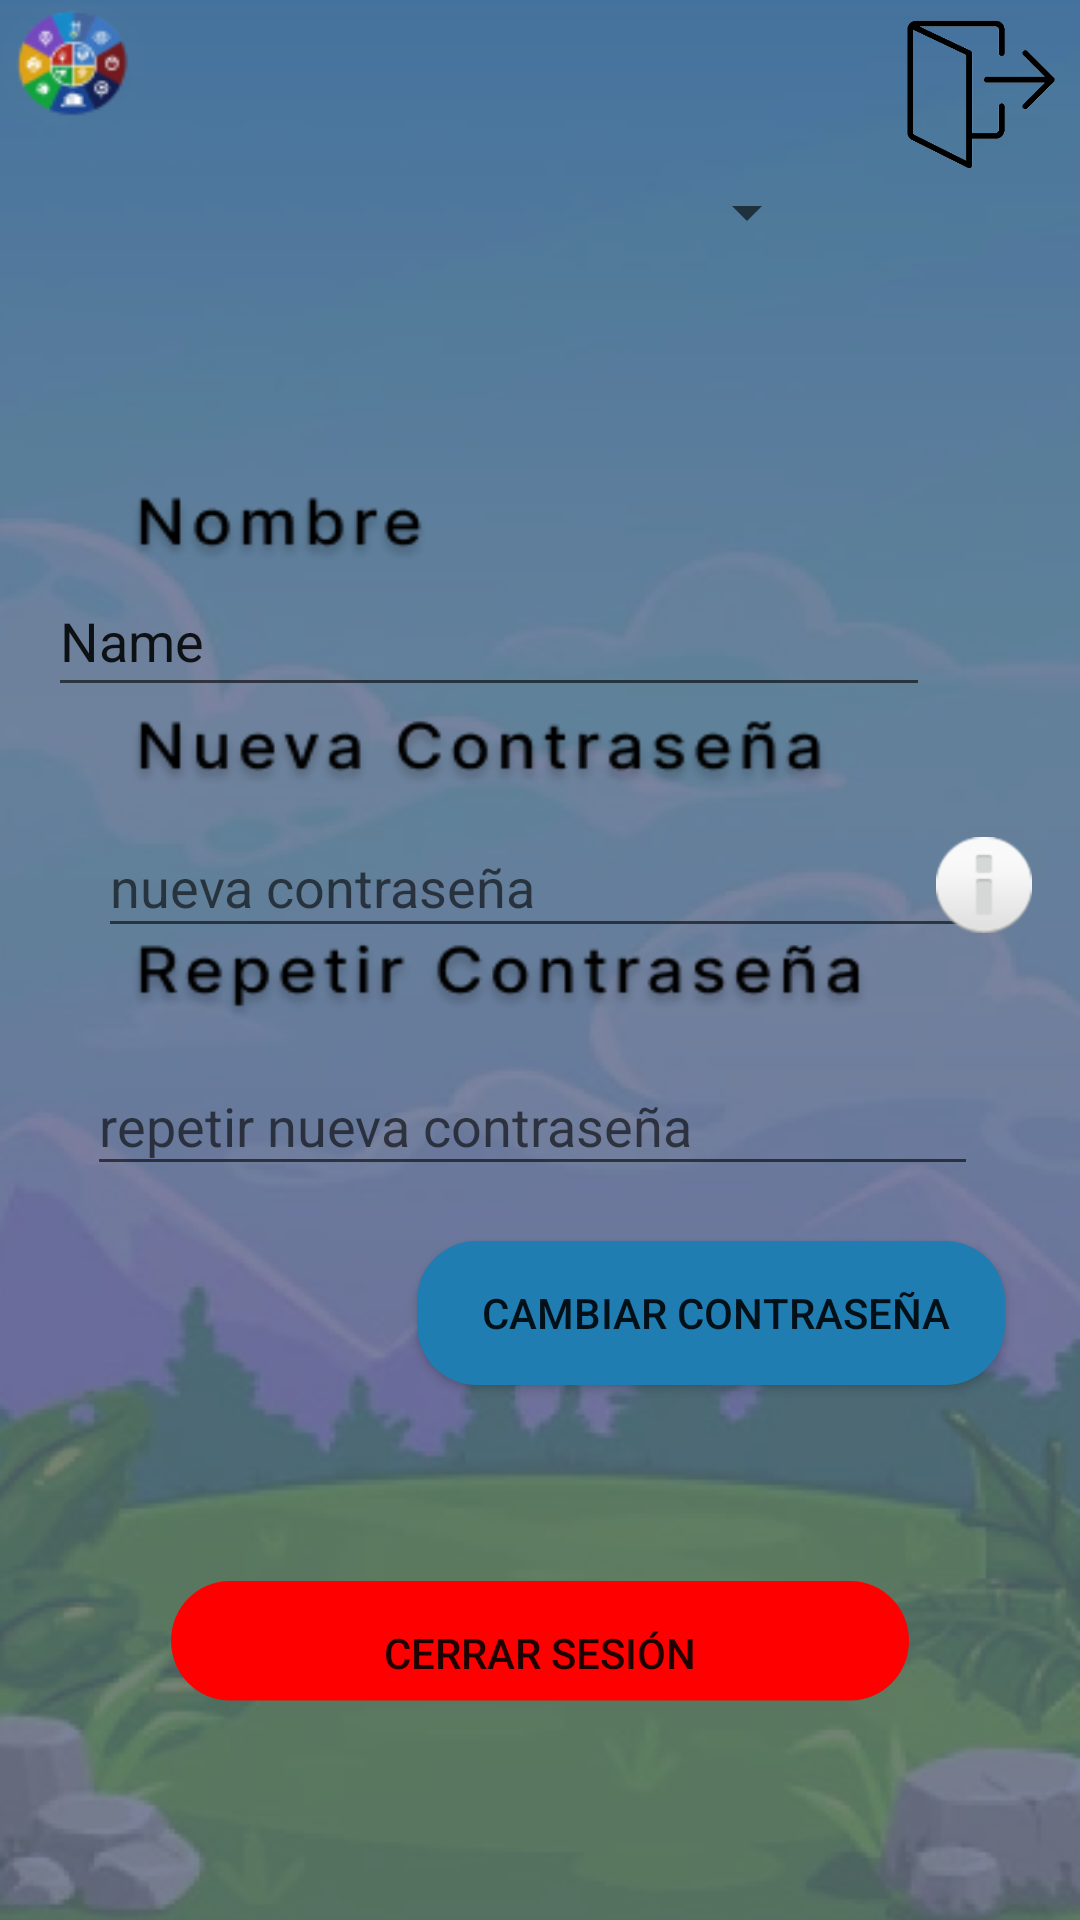

Icon bounding boxes for this 1080*1920 phone screenshot, format [left=x1, top=y1, right=x2, bottom=y2]:
abandonar: [left=907, top=21, right=1055, bottom=168]
info: [left=936, top=837, right=1032, bottom=933]
